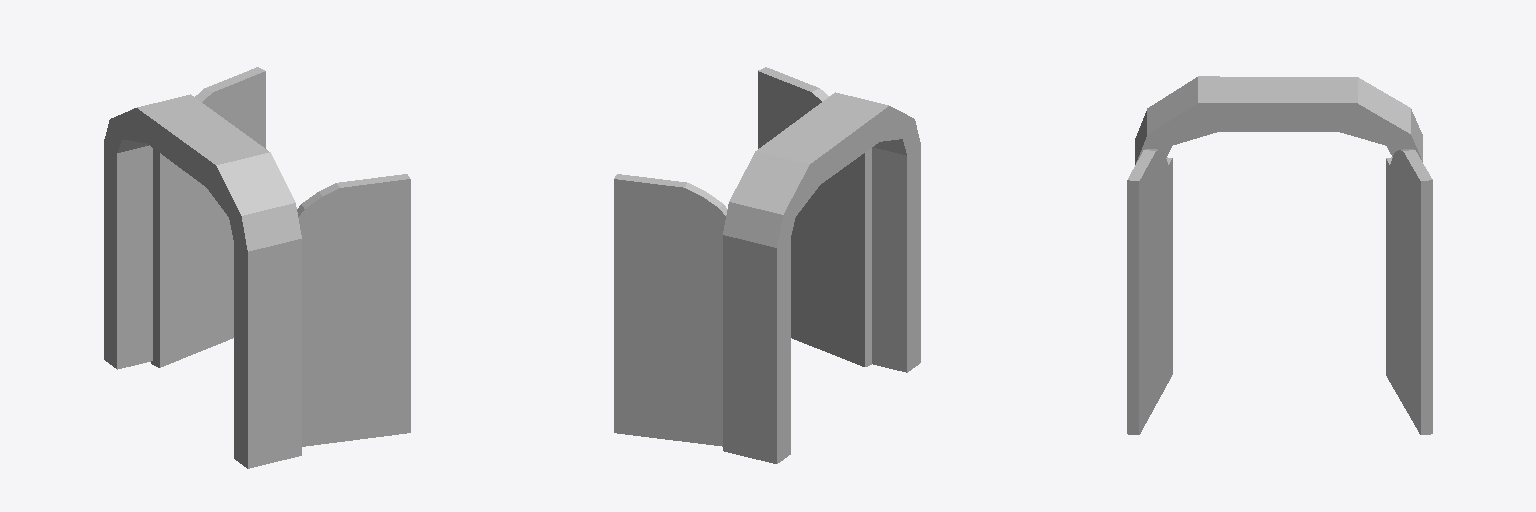
File: DoorTmpObj.obj
3 renders of one model, left to right at view 1: azimuth 30°, elevation 25°; view 2: azimuth 150°, elevation 25°; view 3: azimuth 270°, elevation 25°, orthographic.
Parts seen in each view (by area): view 1: Cube; view 2: Cube; view 3: Cube.
Part boxes in pixels (x1,y1,x2,y2): Cube: (104,67,410,468); Cube: (614,67,920,463); Cube: (1127,76,1432,434).
Size of the model in its own units: 2.53 by 4.19 by 4.15.